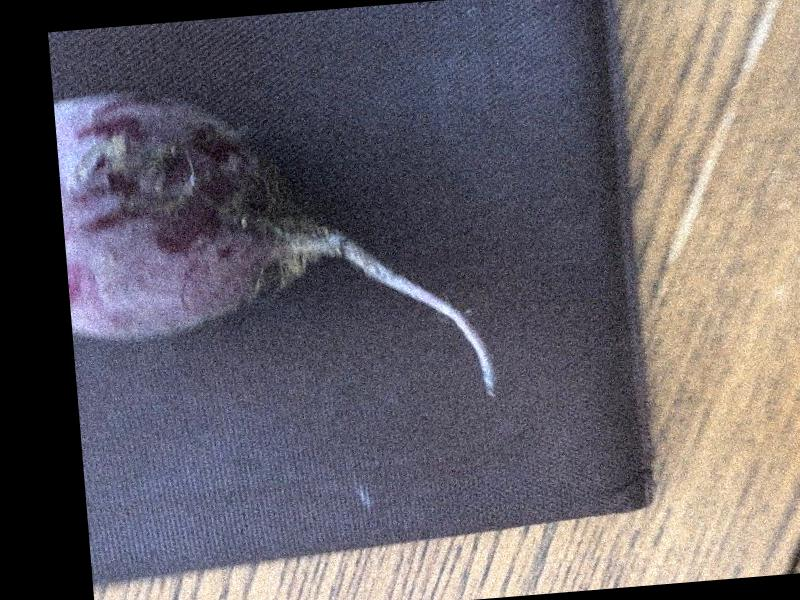Beet: (56, 65, 496, 426)
